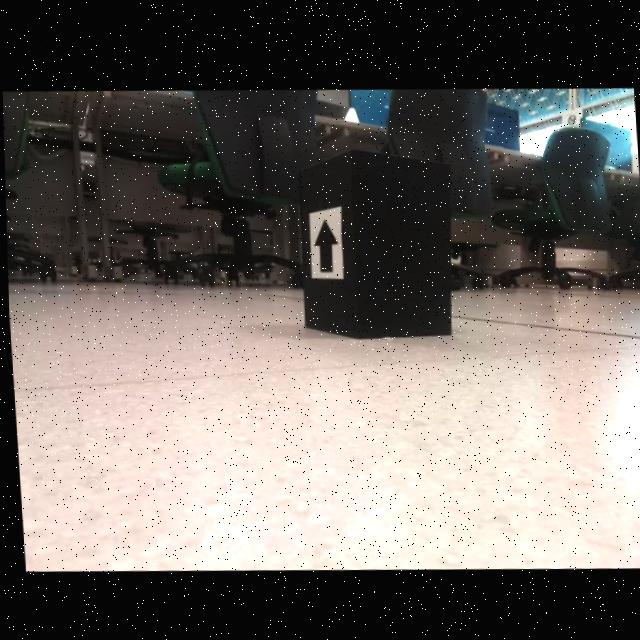UP: (311, 216, 338, 272)
